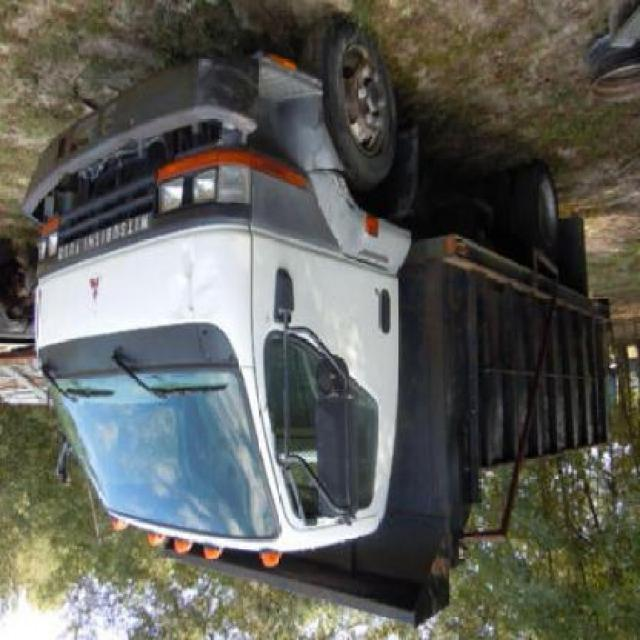truck: (23, 21, 617, 633)
